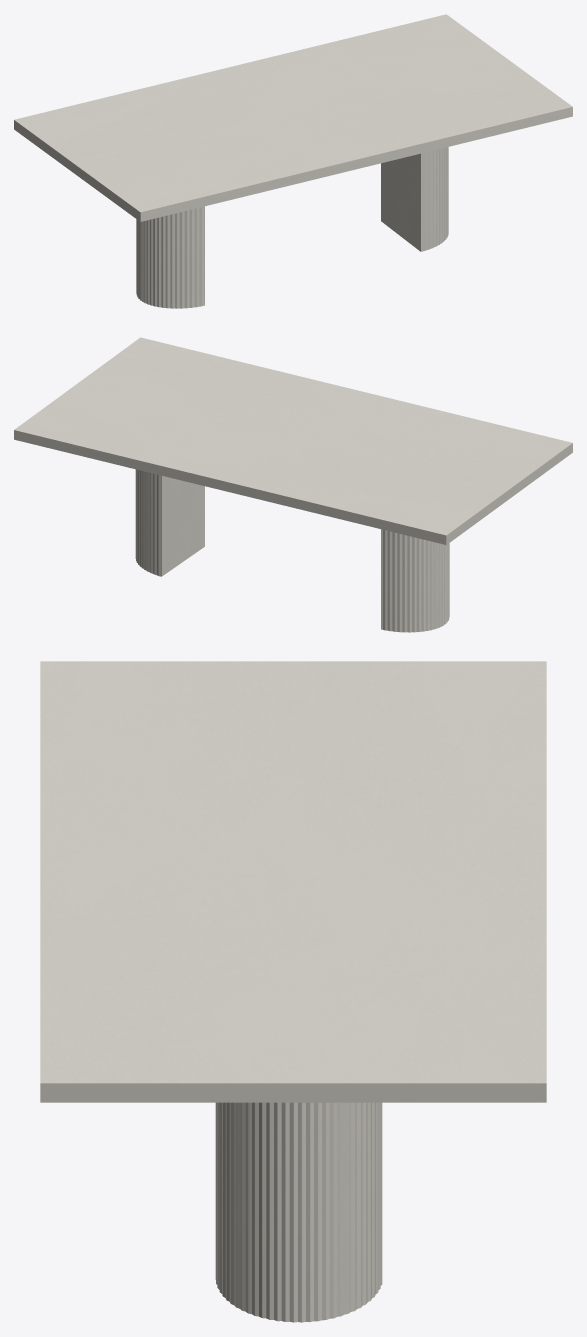
The model's file is pale_recta_standard_flute.glb.
The picture shows the model from 3 angles, top to bottom: view 1: azimuth 30°, elevation 25°; view 2: azimuth 150°, elevation 25°; view 3: azimuth 270°, elevation 25°; orthographic projection. The views are drawn at different scales.
Visible parts, largest first — view 1: standard_recta, flute; view 2: standard_recta, flute; view 3: standard_recta, flute.
Part boxes in pixels (box(x1,y1,x2,y2)): standard_recta: box(14, 14, 572, 221); flute: box(136, 147, 448, 308); standard_recta: box(14, 337, 572, 544); flute: box(135, 469, 449, 632); standard_recta: box(40, 661, 546, 1102); flute: box(215, 1102, 382, 1322).
Bounding box in the file's own units: 7.5 × 2.5 × 3.8.
Materials: 1 (1 with a texture image).
